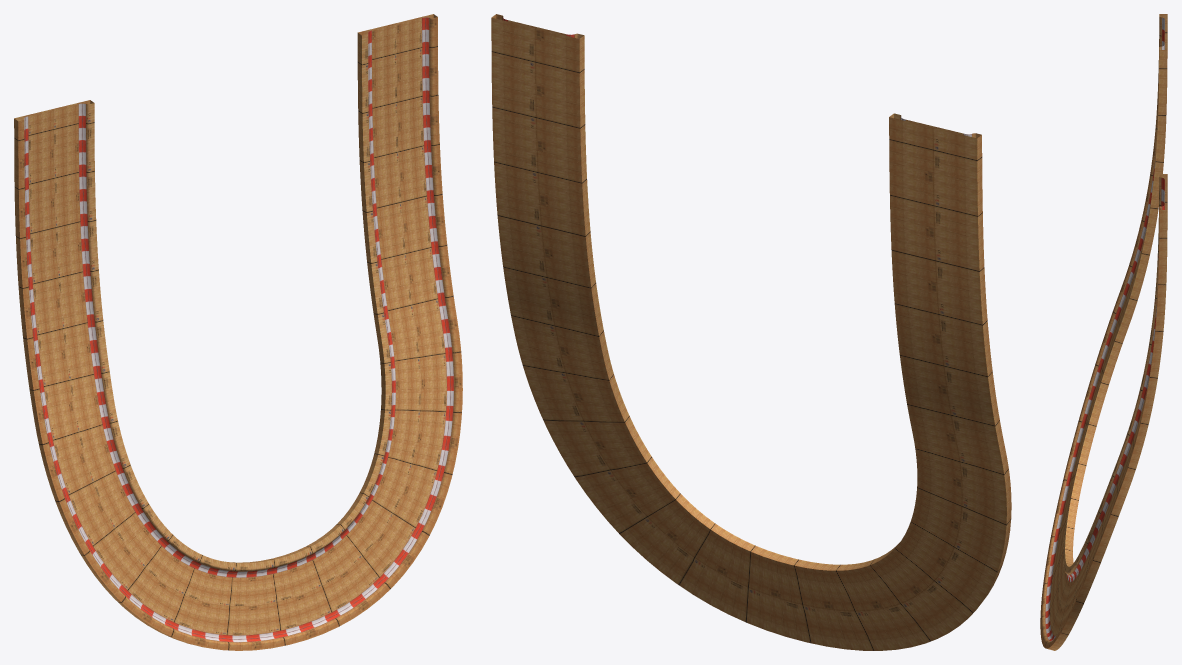
The model's file is SAMRTrack-15.fbx.
The picture shows the model from 3 angles, left to right: view 1: azimuth 30°, elevation 25°; view 2: azimuth 150°, elevation 25°; view 3: azimuth 270°, elevation 25°; orthographic projection. The views are drawn at different scales.
Parts seen in each view (by area): view 1: SAMRTrack-15; view 2: SAMRTrack-15; view 3: SAMRTrack-15.
Boxes of the visible parts, x1,y1,x2,y2 form: SAMRTrack-15: (14, 14, 462, 650); SAMRTrack-15: (491, 14, 1011, 650); SAMRTrack-15: (1040, 14, 1167, 650).
Bounding box in the file's own units: 159 × 193 × 43.23.
2 materials, 2 textured.
